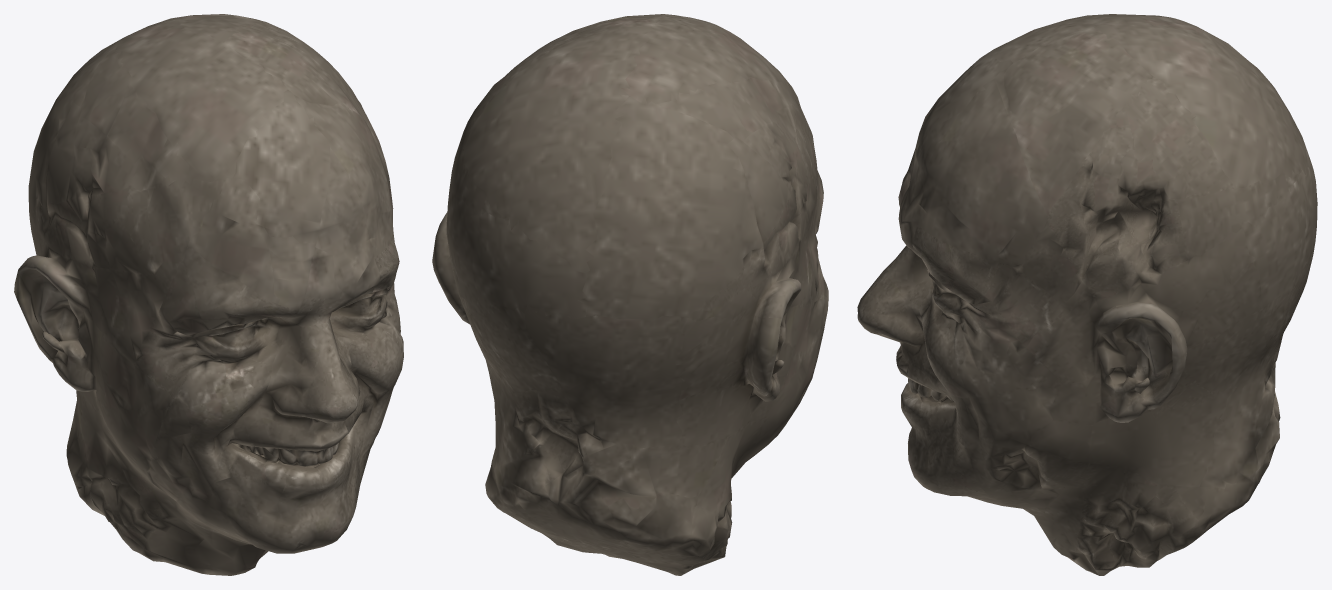
Rendered from Rozitis-low.glb.
3 views of the same model, side by side, from view 1: azimuth 30°, elevation 25°; view 2: azimuth 150°, elevation 25°; view 3: azimuth 270°, elevation 25° (orthographic).
Size of the model in its own units: 1.27 by 1.9 by 1.48.
1 material, 1 textured.
